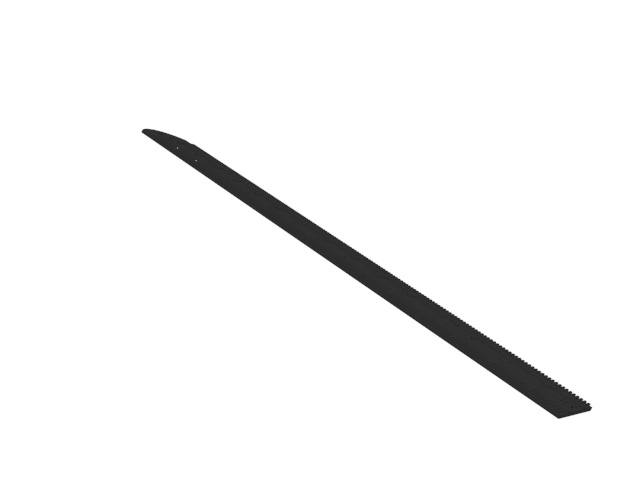ruler: (137, 129, 600, 424)
